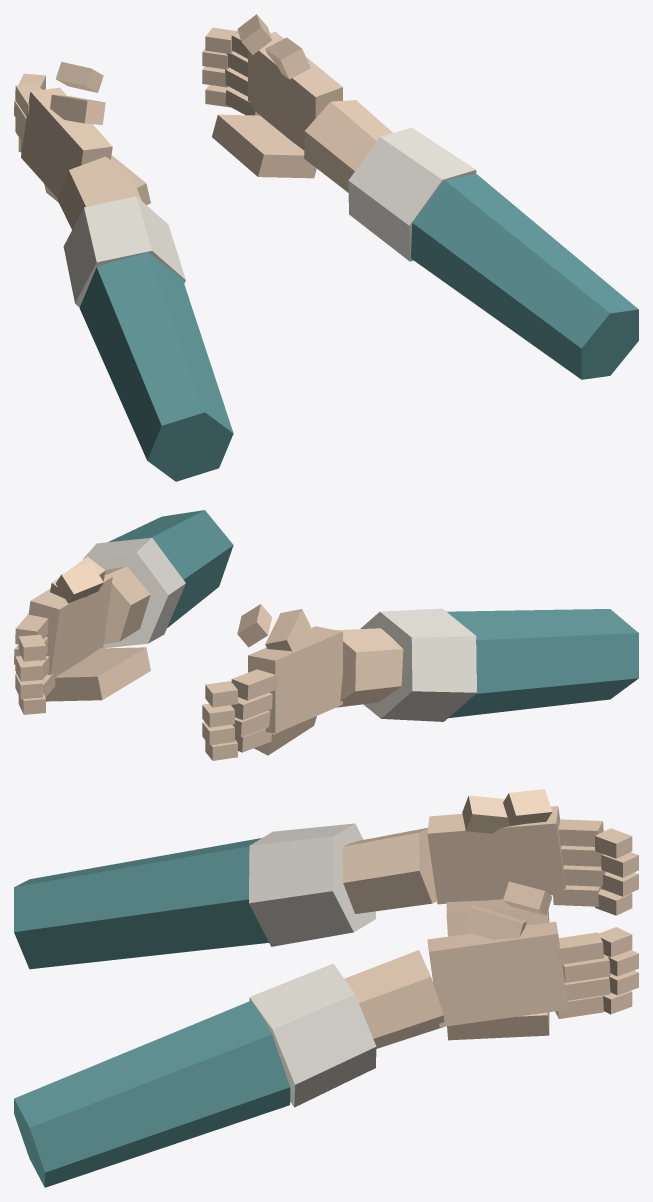
The model's file is LP_FP_CarryHands.fbx.
3 views of the same model, one above another, from view 1: azimuth 30°, elevation 25°; view 2: azimuth 150°, elevation 25°; view 3: azimuth 270°, elevation 25° (orthographic). The views are drawn at different scales.
Parts seen in each view (by area): view 1: CarryHands_Mesh; view 2: CarryHands_Mesh; view 3: CarryHands_Mesh.
Part boxes in pixels (x1=…): CarryHands_Mesh: x1=14, y1=14, x2=638, y2=481; CarryHands_Mesh: x1=14, y1=510, x2=638, y2=760; CarryHands_Mesh: x1=14, y1=789, x2=638, y2=1187.
Size of the model in its own units: 0.5505 by 0.2377 by 0.5671.
